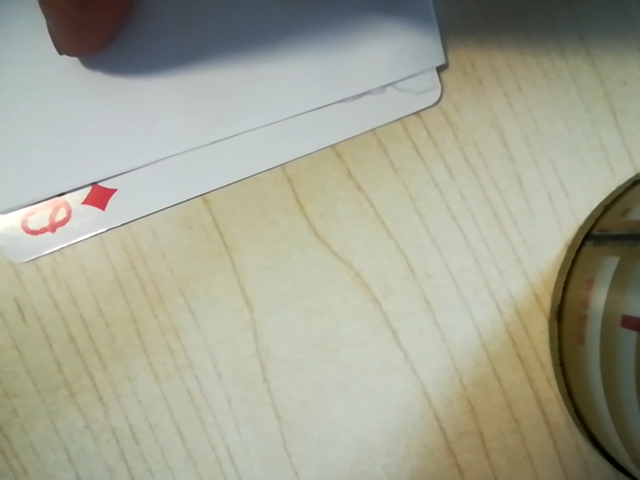fk q: (3, 176, 125, 249)
